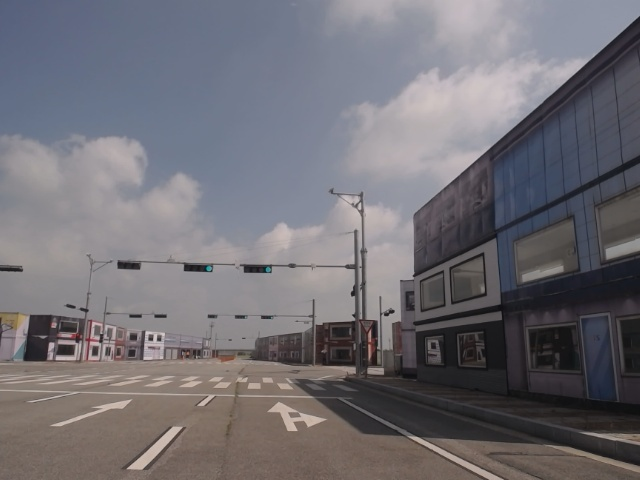straight_green_4: (182, 263, 215, 275), (244, 265, 273, 274)
